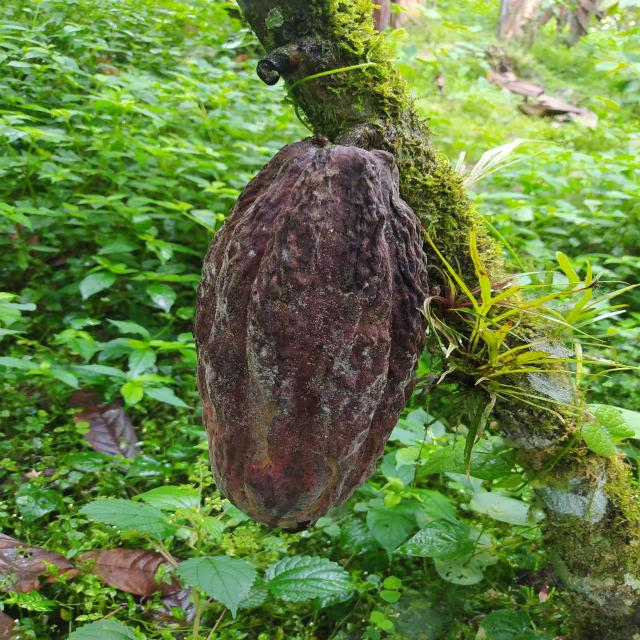Fitoftora: (192, 136, 428, 530)
